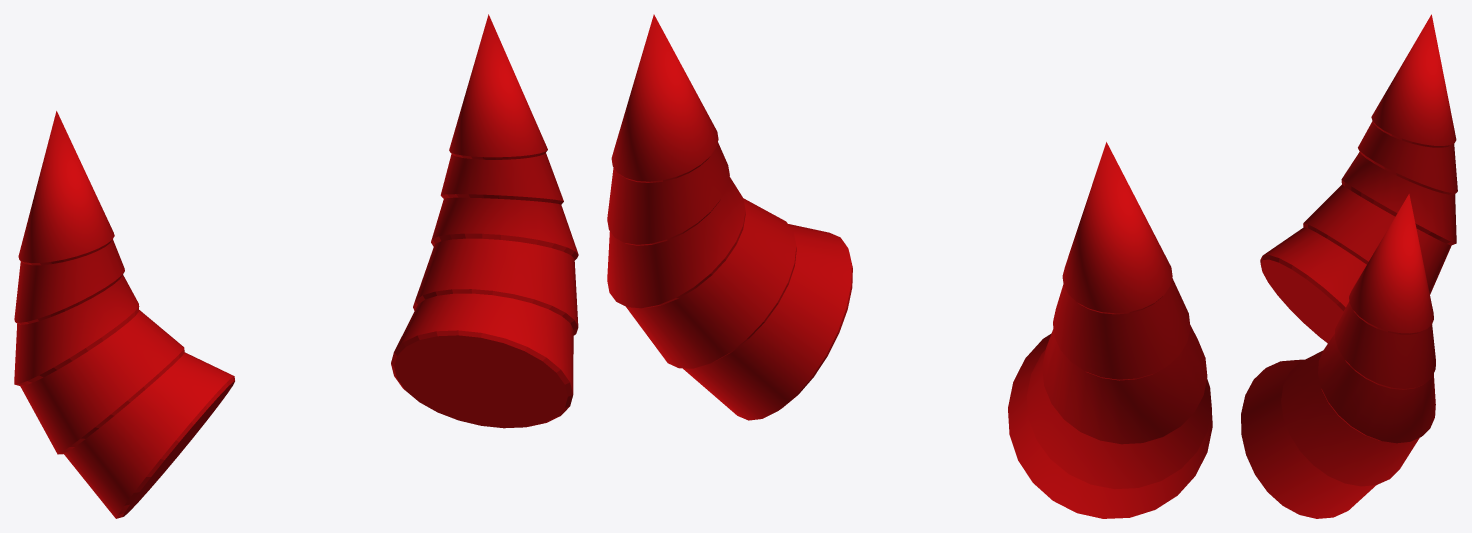
The model's file is devil_horns.glb.
The picture shows the model from 3 angles, left to right: view 1: azimuth 30°, elevation 25°; view 2: azimuth 150°, elevation 25°; view 3: azimuth 270°, elevation 25°; orthographic projection. The views are drawn at different scales.
Visible parts, largest first — view 1: Horn; view 2: Horn; view 3: Horn.
Part boxes in pixels (x1,y1,x2,y2): Horn: (14, 14, 578, 518); Horn: (607, 14, 1212, 518); Horn: (1241, 14, 1457, 518).
Size of the model in its own units: 0.1492 by 0.101 by 0.0588.
